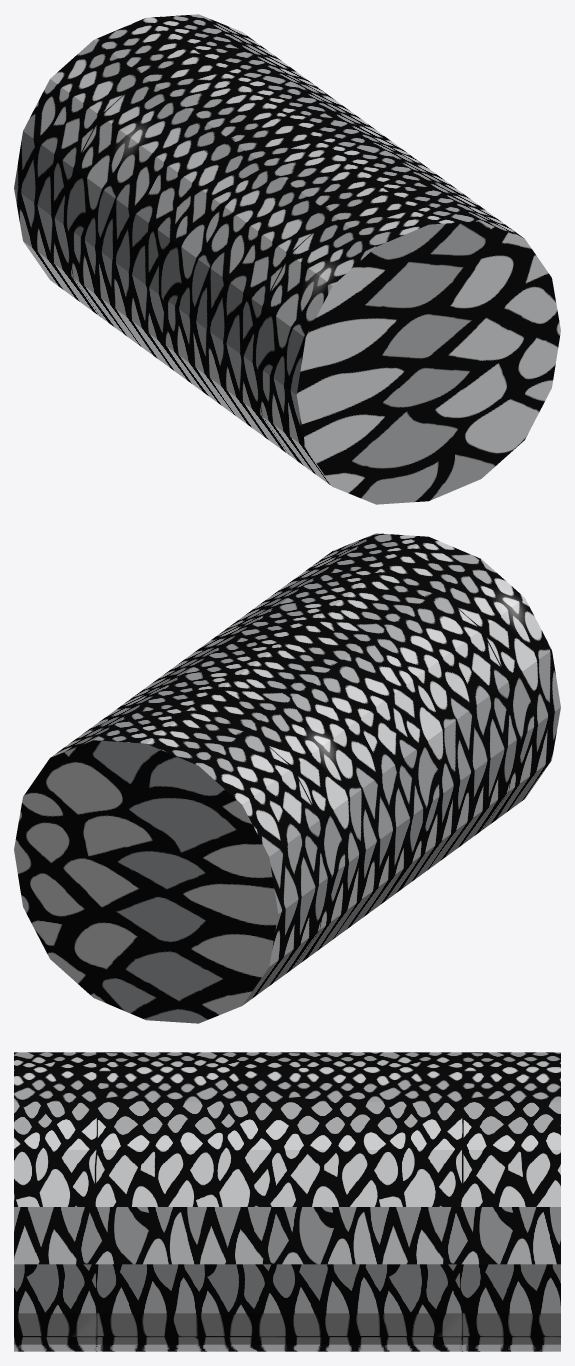
File: snek_body.gltf
The picture shows the model from 3 angles, top to bottom: view 1: azimuth 30°, elevation 25°; view 2: azimuth 150°, elevation 25°; view 3: azimuth 270°, elevation 25°; orthographic projection. The views are drawn at different scales.
Visible parts, largest first — view 1: Body; view 2: Body; view 3: Body.
Part boxes in pixels (box(x1,y1,x2,y2)): Body: box(14, 14, 560, 504); Body: box(14, 533, 560, 1023); Body: box(14, 1052, 560, 1351).
Bounding box in the file's own units: 4.67 × 4.67 × 8.65.
Materials: 1 (1 with a texture image).
